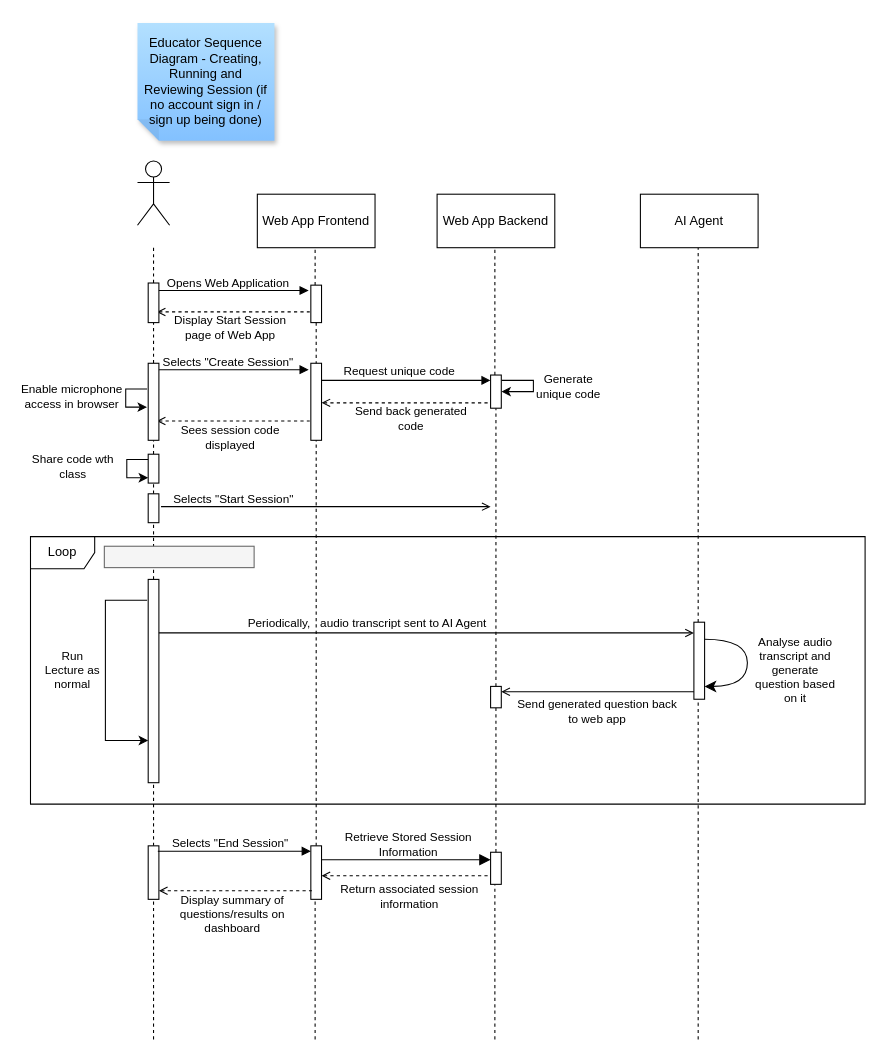
Some shapes in this 884 by 1059 pixel diagram are drawn without their labels. Here are the shapes that lost their labels. From the top down, the centre of each, then its label:
At (153,192): "Educator".
At (178,556): "(lectureRunning = true)".
